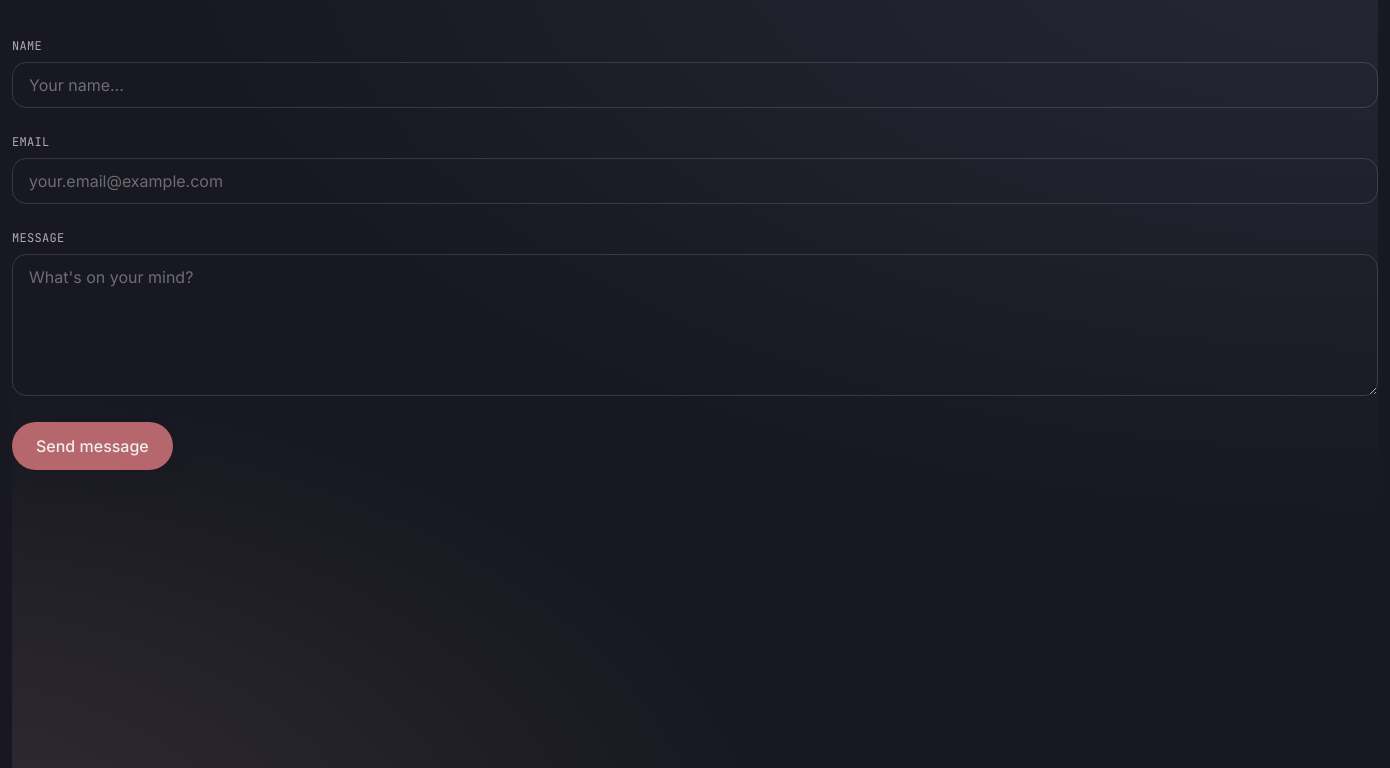
Test case: ContactForm › shows validation errors when submitted empty
The width and height of the screenshot is (1390, 768).
Click the button "Send message" at coordinates (92, 446), box [12,422,173,470]
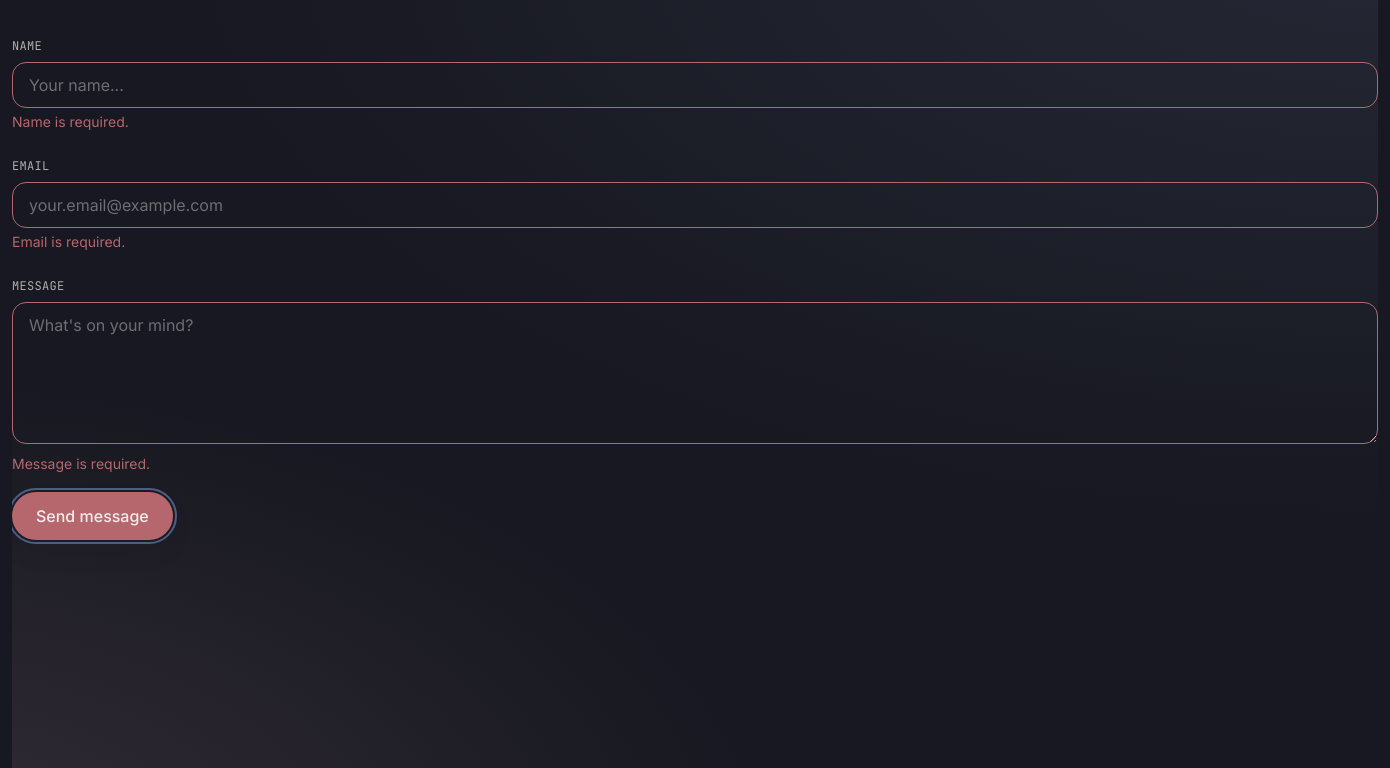
Expected: the text "Name is required." is shown, [12,113,129,130]
Expected: the text "Email is required." is shown, [12,233,125,250]
Expected: the text "Message is required." is shown, [12,455,150,472]
